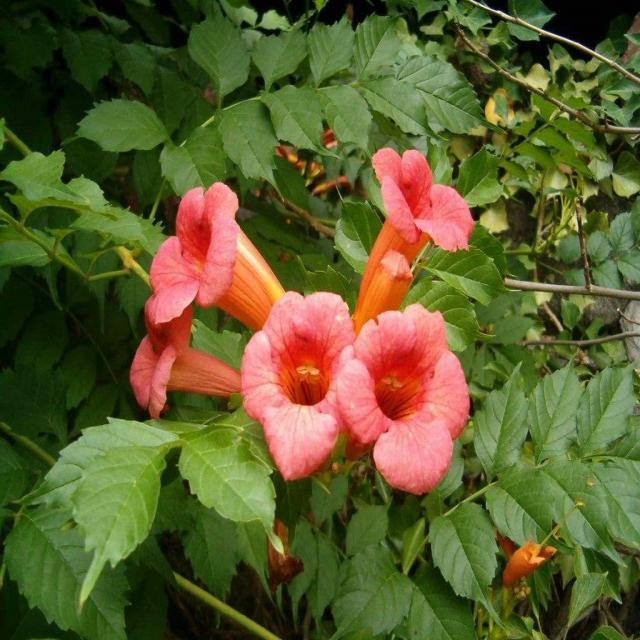organic waste: (235, 286, 370, 486), (336, 300, 471, 496), (153, 183, 305, 349), (370, 128, 472, 340)
